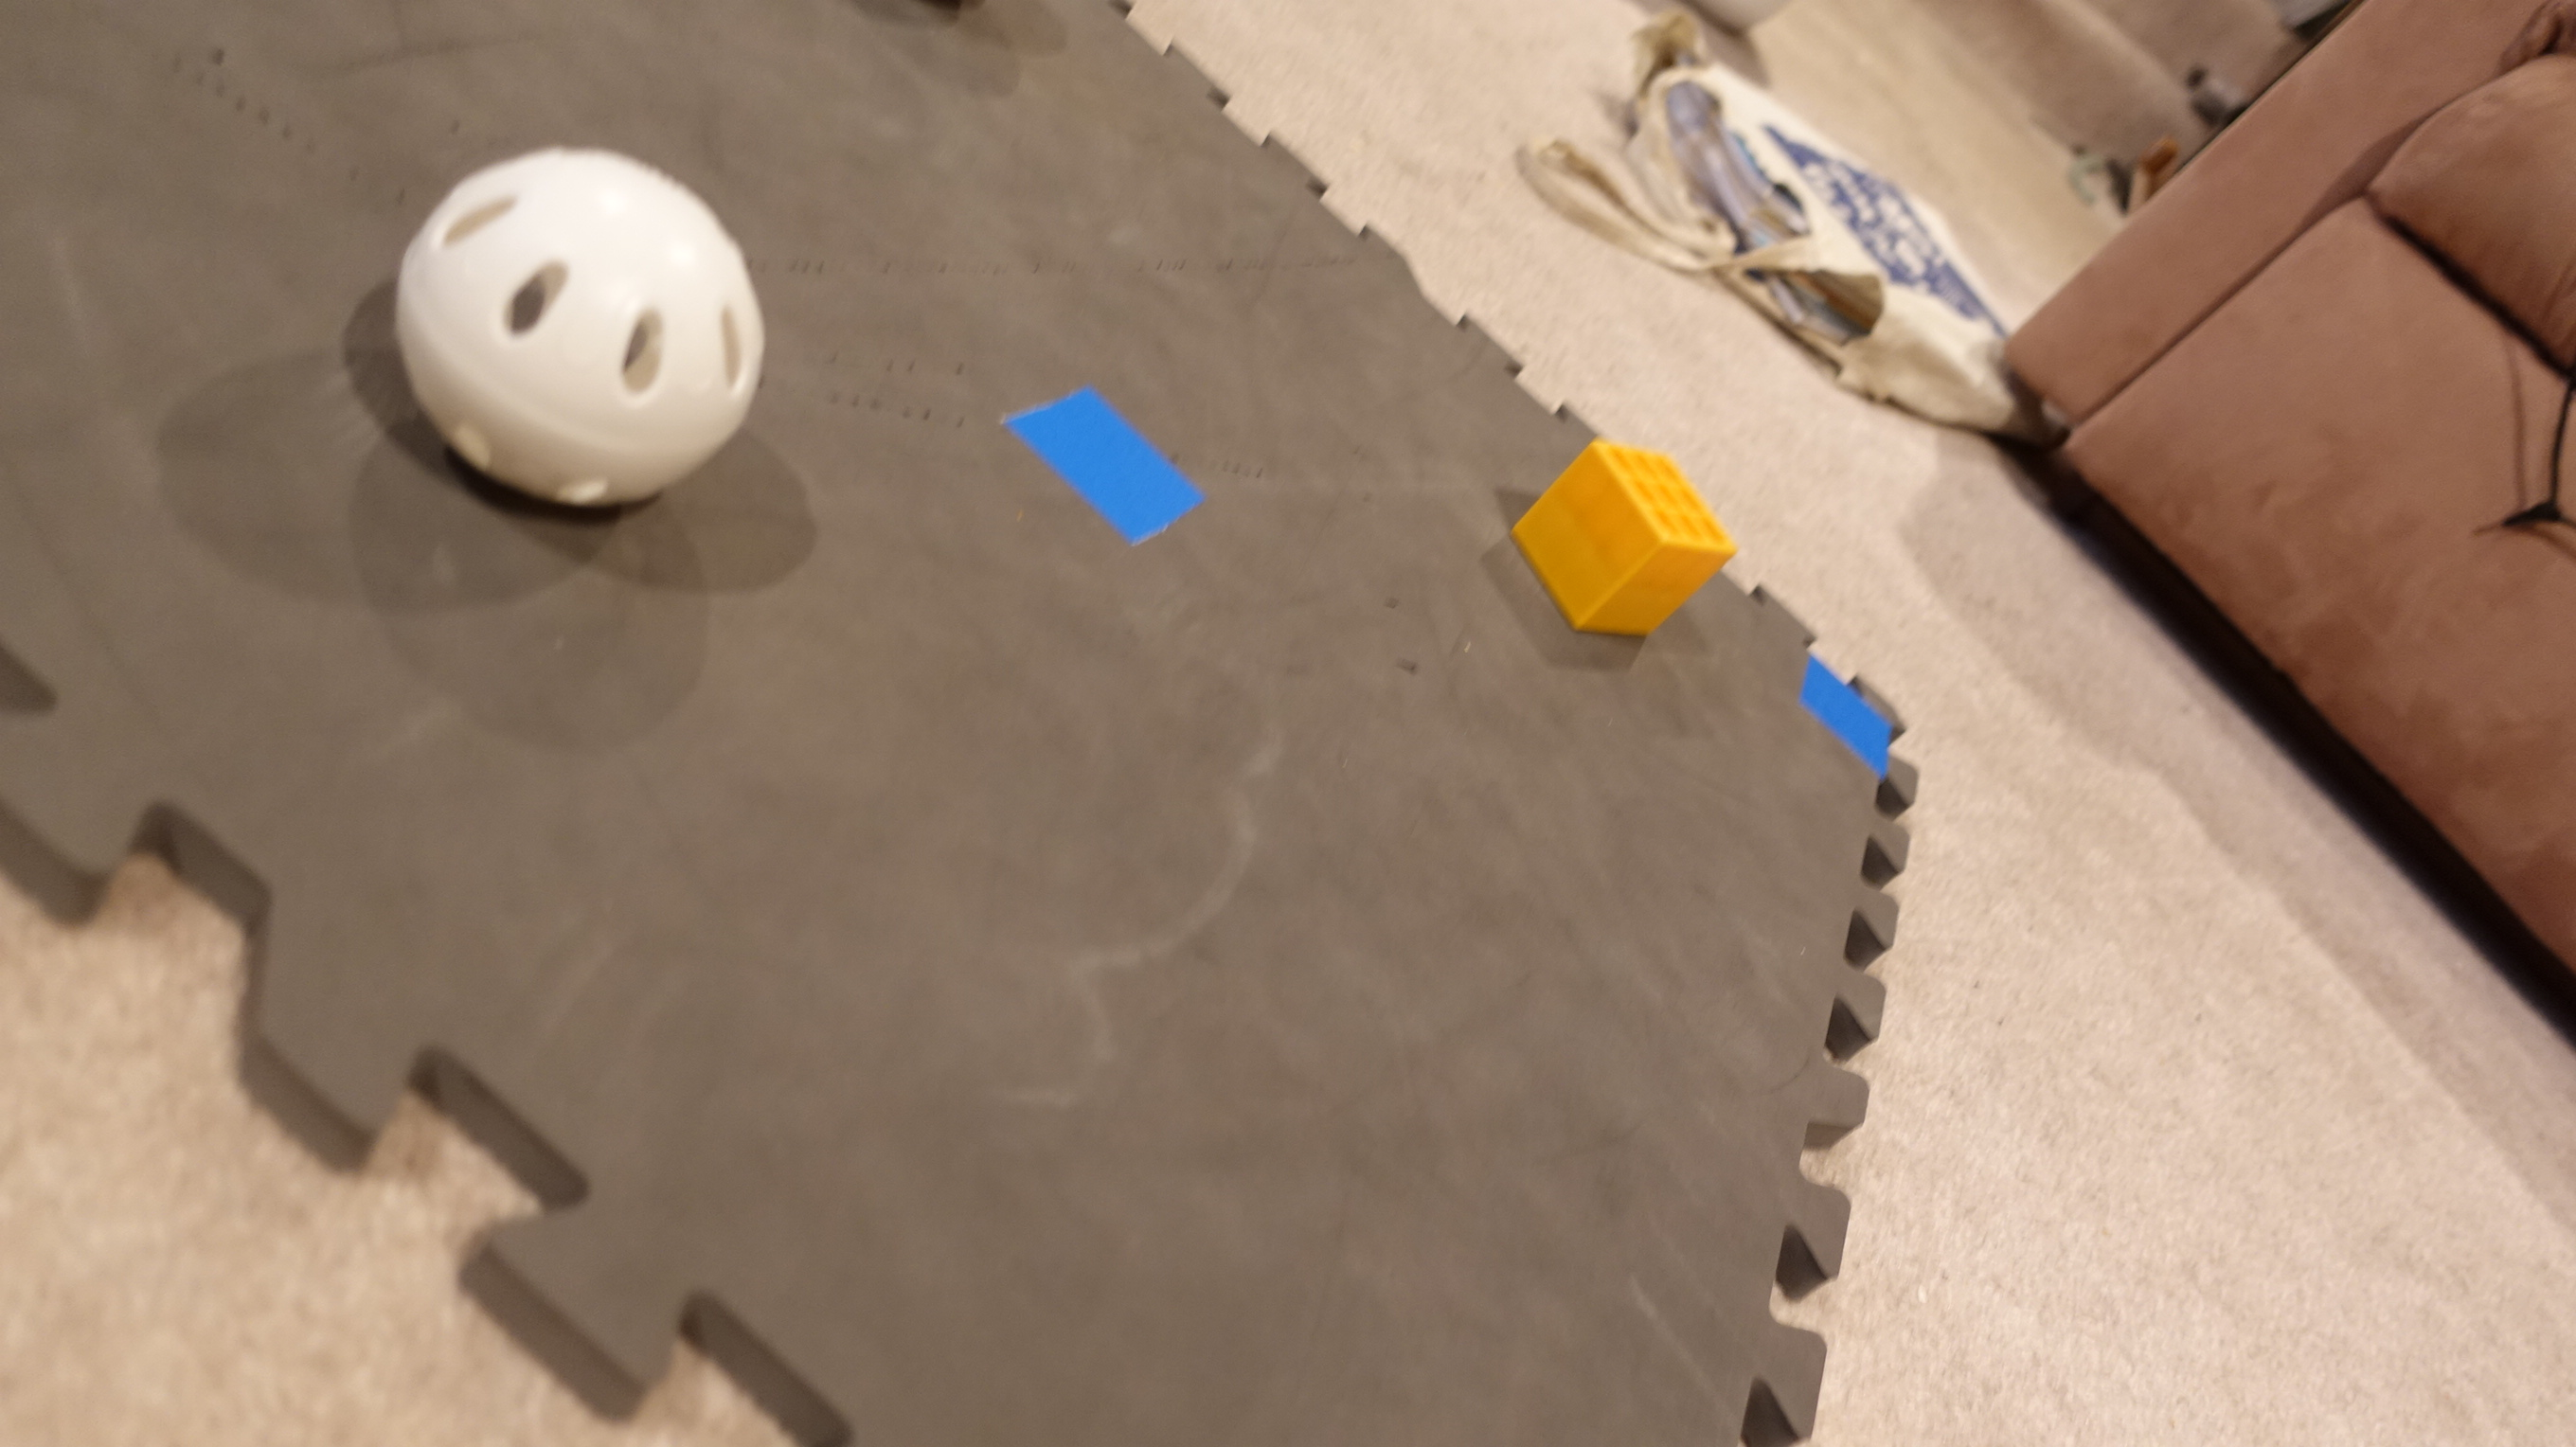gold: (1507, 433, 1750, 647)
silver: (395, 147, 766, 520)
